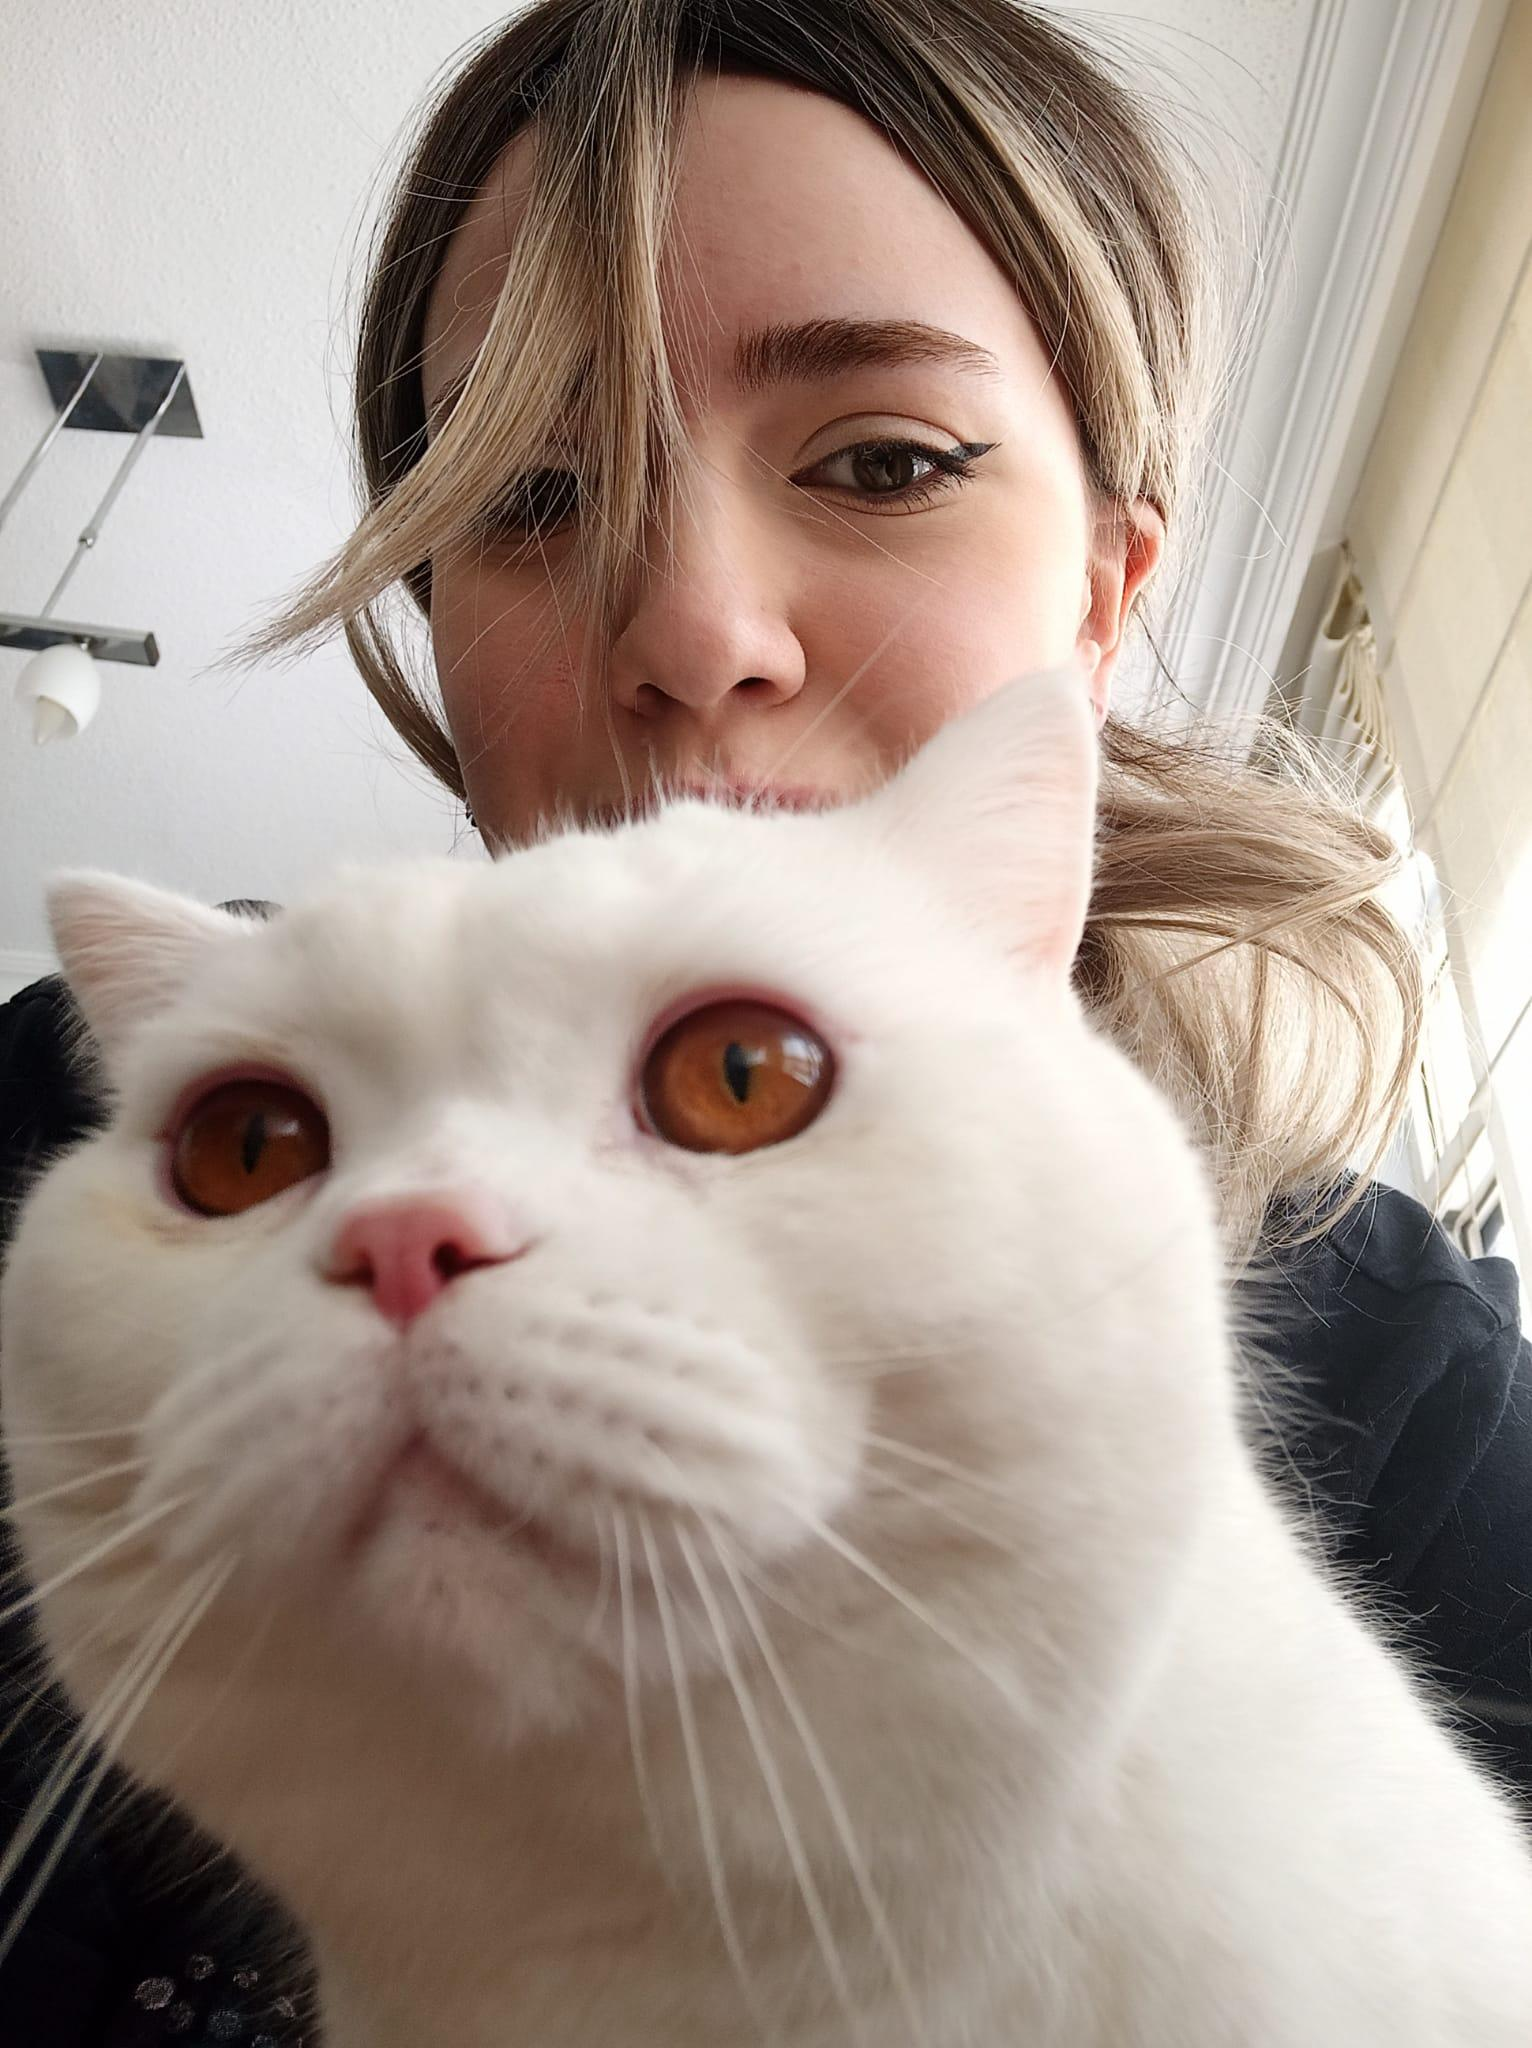kedo: (0, 674, 1532, 2045)
